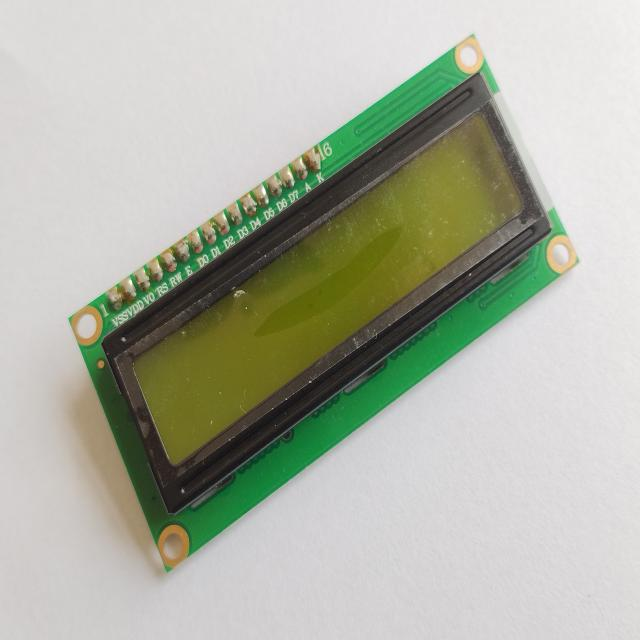lcd: (64, 28, 582, 588)
